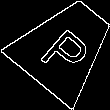P_NE: (34, 15, 97, 78)
